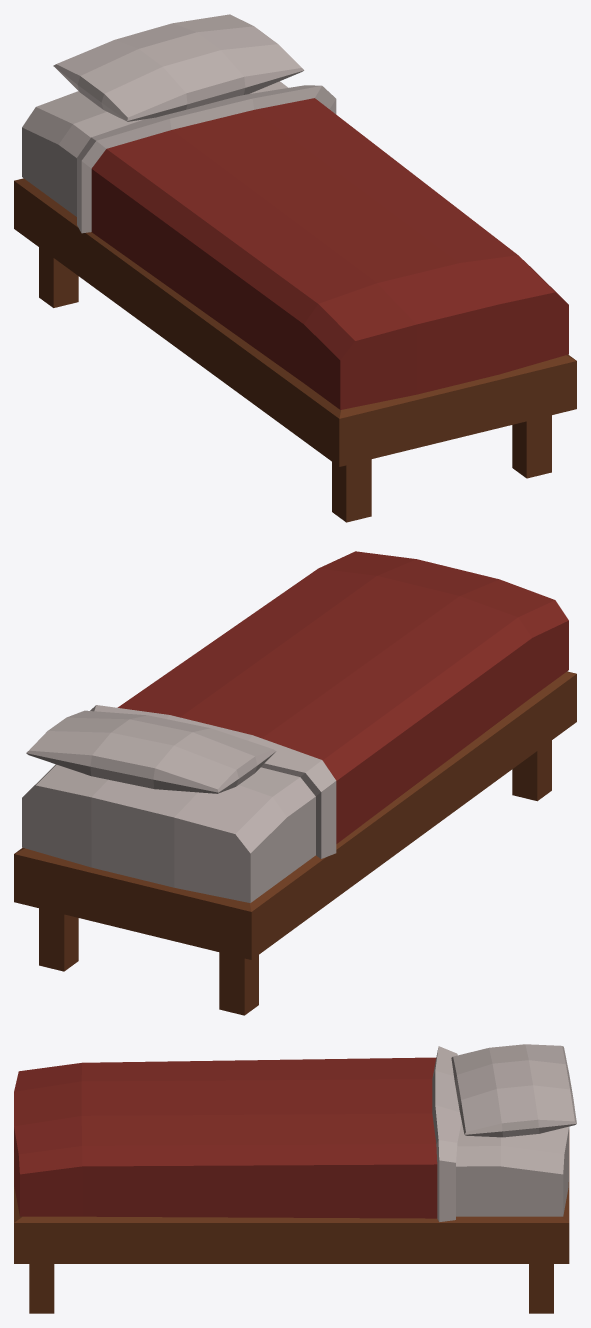
The model's file is SingleBed1.glb.
3 renders of one model, top to bottom at view 1: azimuth 30°, elevation 25°; view 2: azimuth 150°, elevation 25°; view 3: azimuth 270°, elevation 25°, orthographic. The views are drawn at different scales.
Parts seen in each view (by area): view 1: SingleBed1; view 2: SingleBed1; view 3: SingleBed1.
Part boxes in pixels (x1,y1,x2,y2): SingleBed1: [14, 14, 576, 522]; SingleBed1: [14, 551, 576, 1015]; SingleBed1: [14, 1044, 576, 1313].
Bounding box in the file's own units: 0.9238 × 0.8266 × 2.07.
